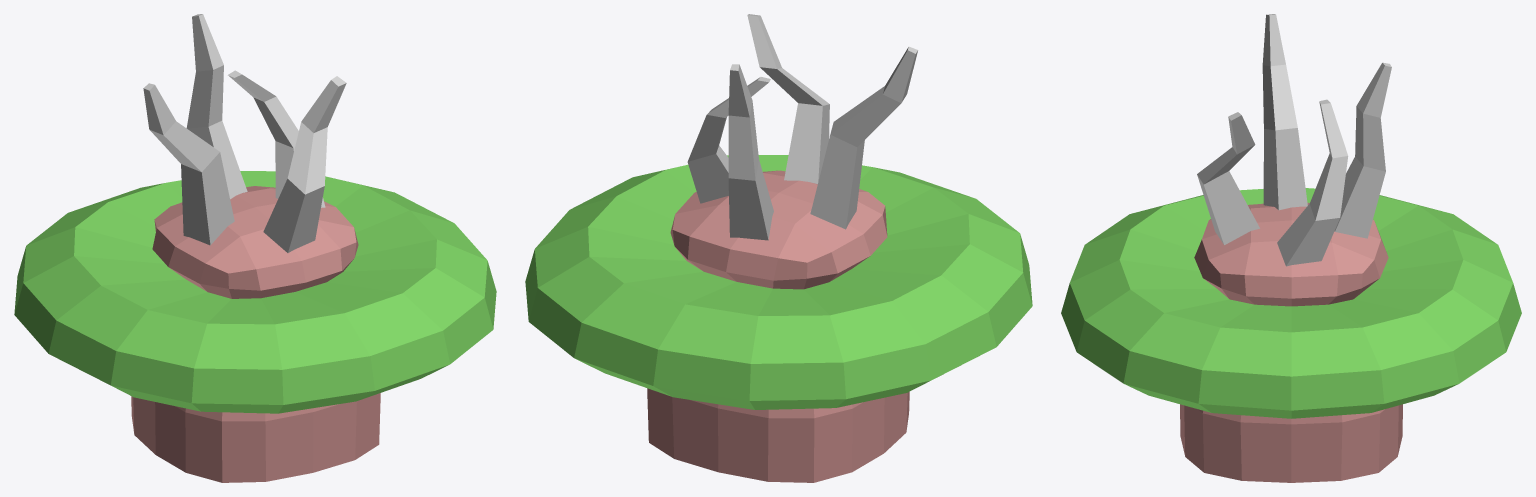
Rendered from voynich4.fbx.
3 renders of one model, left to right at view 1: azimuth 30°, elevation 25°; view 2: azimuth 150°, elevation 25°; view 3: azimuth 270°, elevation 25°, orthographic. The views are drawn at different scales.
Parts seen in each view (by area): view 1: Plant, Fruit; view 2: Plant, Fruit; view 3: Plant, Fruit.
Boxes of the visible parts, box(x1,y1,x2,y2) form: Plant: box(14, 171, 496, 482); Fruit: box(143, 14, 346, 252); Plant: box(525, 155, 1032, 482); Fruit: box(687, 14, 917, 240); Plant: box(1061, 188, 1521, 482); Fruit: box(1197, 14, 1391, 266).
Size of the model in its own units: 0.8098 by 0.7153 by 0.8098.
